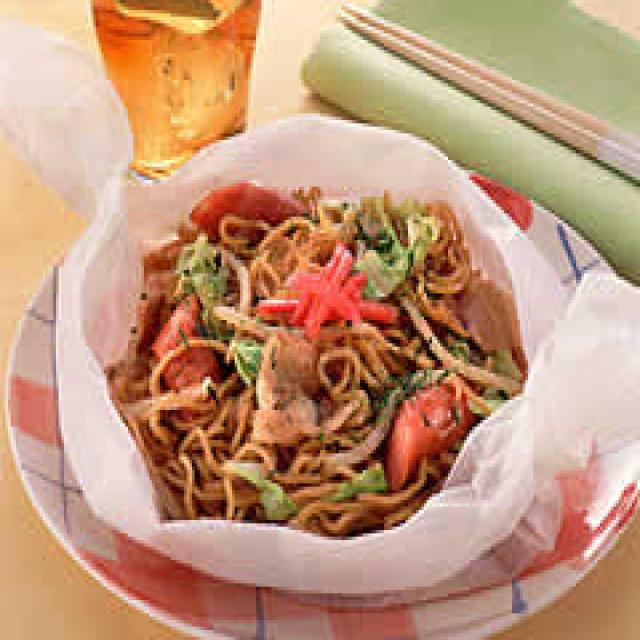面条主食: (112, 174, 520, 544)
